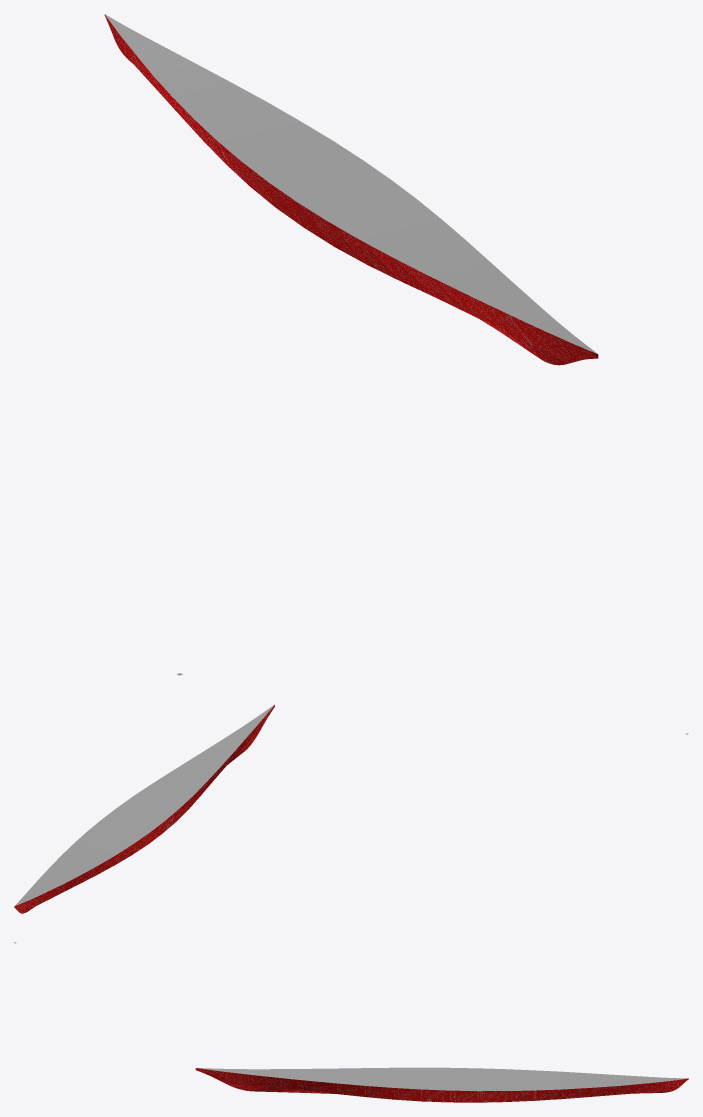
Rendered from kayak.fbx.
3 views of the same model, one above another, from view 1: azimuth 30°, elevation 25°; view 2: azimuth 150°, elevation 25°; view 3: azimuth 270°, elevation 25° (orthographic). The views are drawn at different scales.
Parts seen in each view (by area): view 1: Hull; view 2: Hull; view 3: Hull.
Part boxes in pixels (bbox=[...]): Hull: bbox=[104, 14, 598, 365]; Hull: bbox=[14, 704, 274, 913]; Hull: bbox=[195, 1067, 688, 1102].
Size of the model in its own units: 152 by 12.46 by 275.
